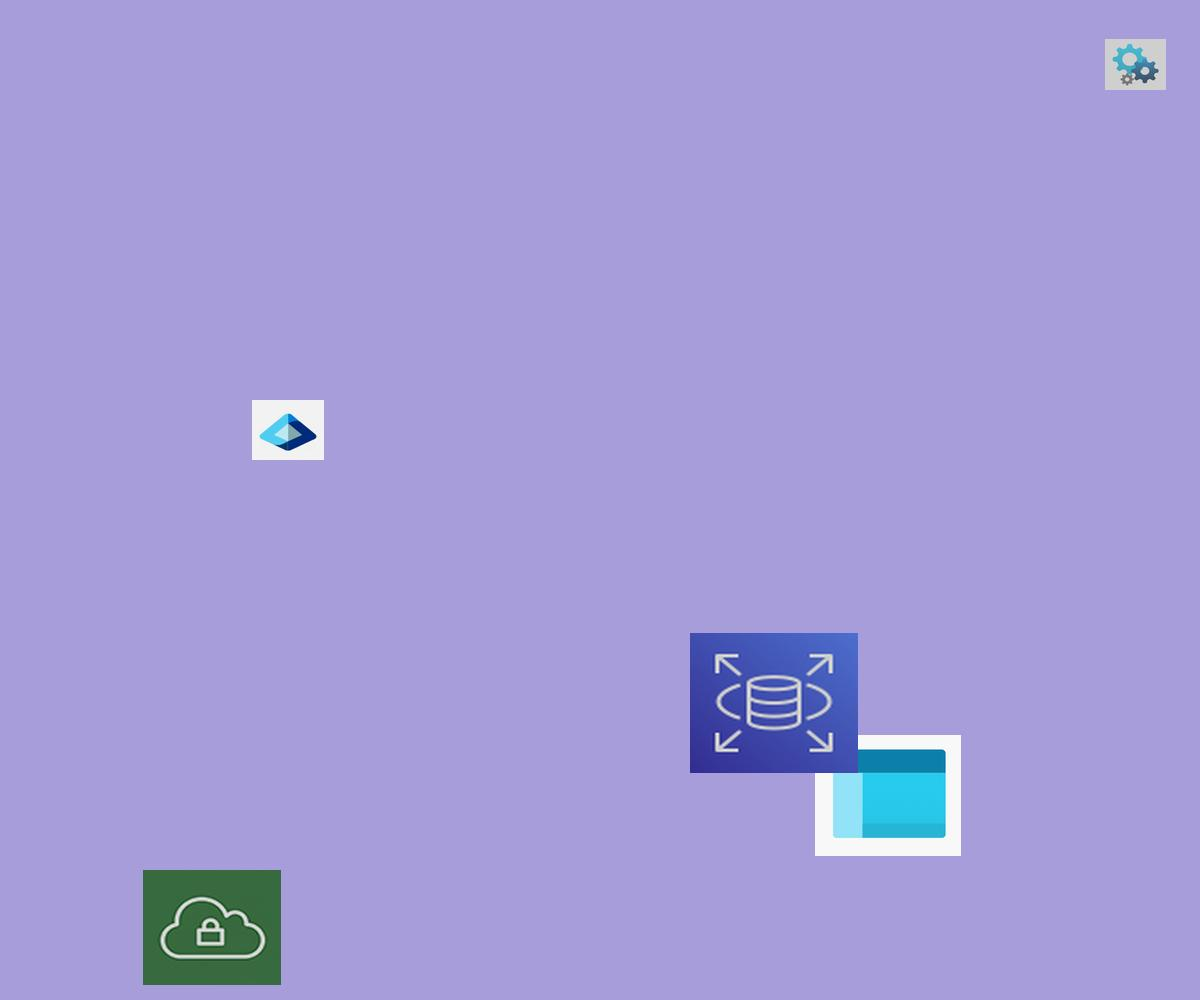AWS-Private_vpc: (143, 870, 281, 985)
AWS-RDS: (690, 633, 858, 773)
Azure_api: (1105, 39, 1166, 90)
Azure_management-portal: (815, 735, 961, 856)
Azure_microsoft_entra: (252, 400, 324, 460)
